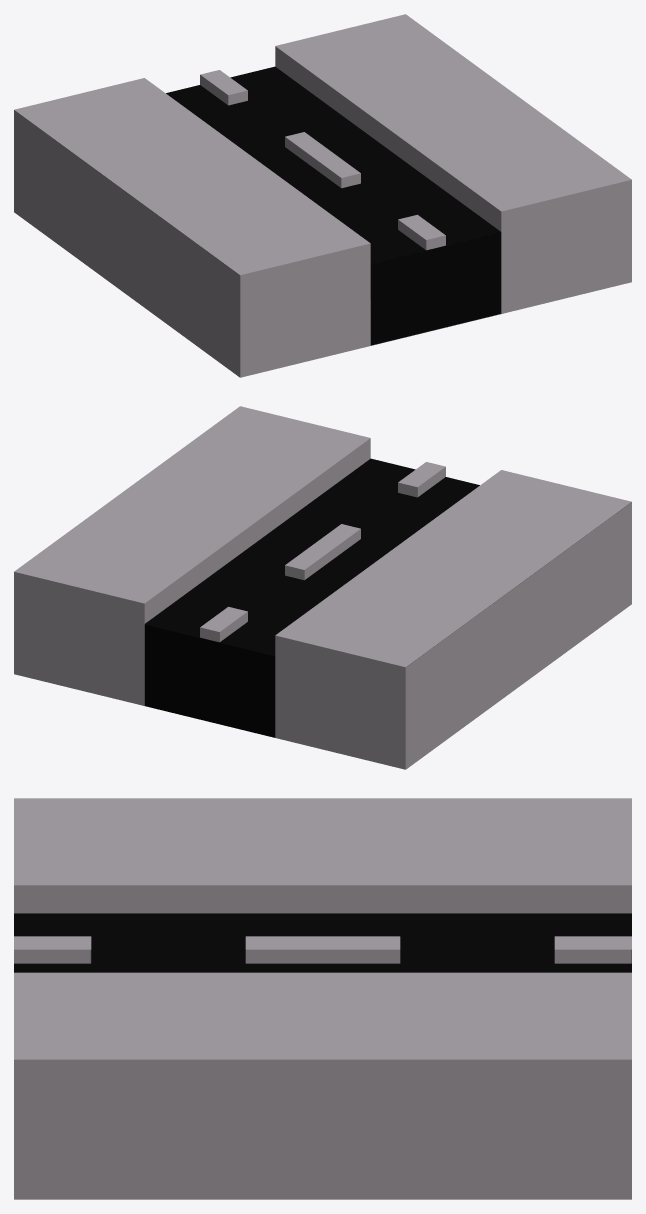
File: duzYol2.glb
3 views of the same model, one above another, from view 1: azimuth 30°, elevation 25°; view 2: azimuth 150°, elevation 25°; view 3: azimuth 270°, elevation 25° (orthographic). The views are drawn at different scales.
Visible parts, largest first — view 1: Cube.001; view 2: Cube.001; view 3: Cube.001.
Part boxes in pixels (box(x1,y1,x2,y2)): Cube.001: box(14, 14, 631, 377); Cube.001: box(14, 406, 631, 769); Cube.001: box(14, 798, 631, 1199).
Size of the model in its own units: 2 by 0.5 by 2.
Materials: 1 (1 with a texture image).
